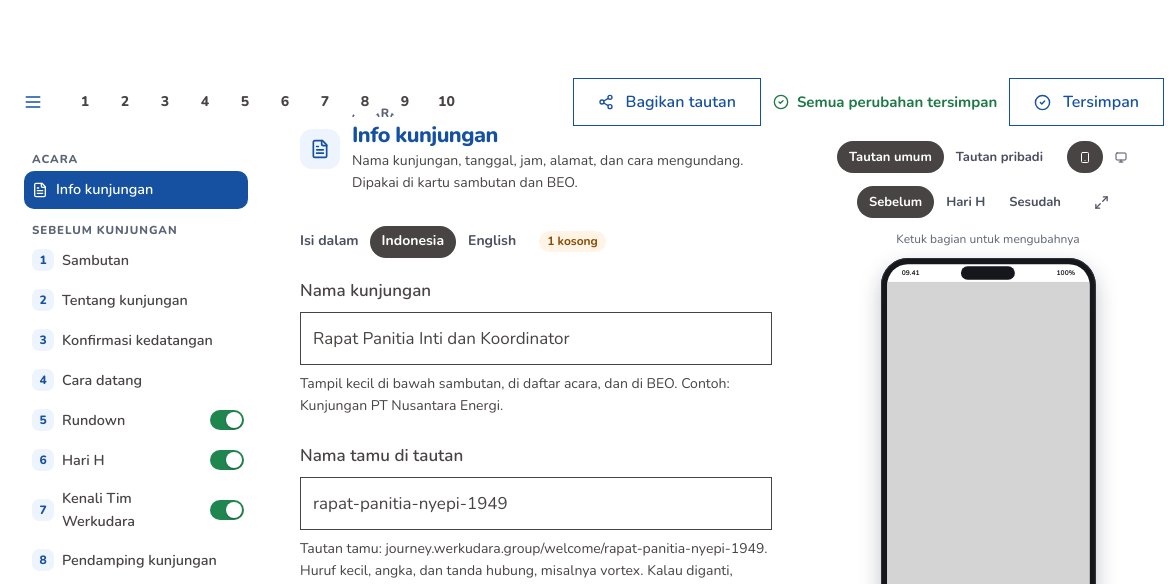
Test: fills a bilingual screen in English beside its Indonesian, counting the empty texts
The width and height of the screenshot is (1176, 584).
Click the button "1 Sambutan" at (136, 260), box [24,241,248,279]
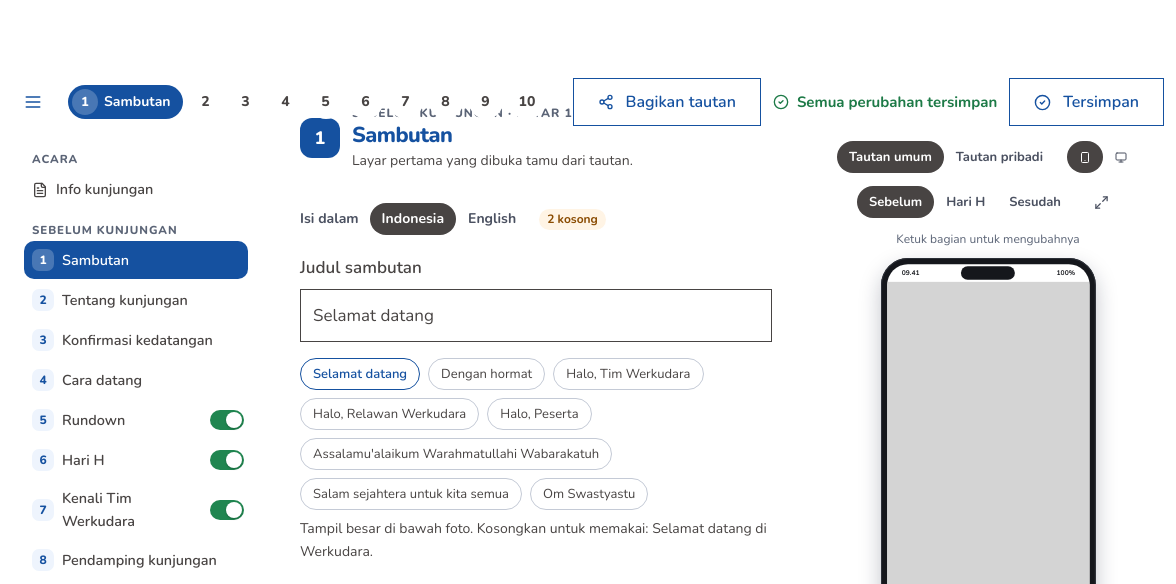
Expected: the text "2 kosong" is shown, [539,208,606,230]
Click the button "English" at (492, 219), box [456,203,528,235]
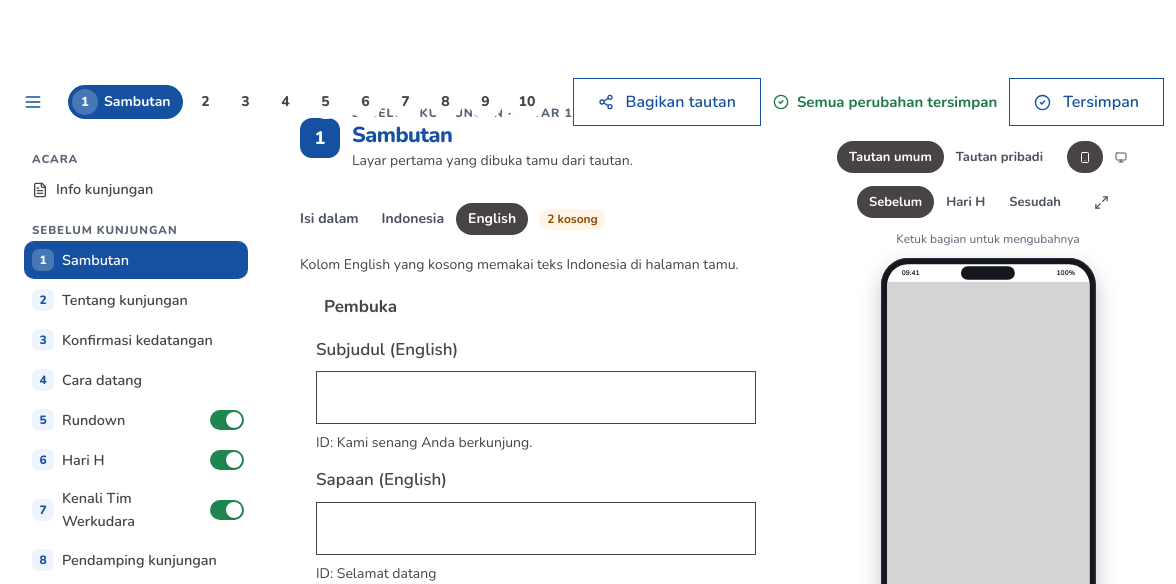
Expected: the label "Judul sambutan" is gone
Type "Welcome" into the field labelled "Sapaan (English)" at (536, 528), box [316,502,756,555]
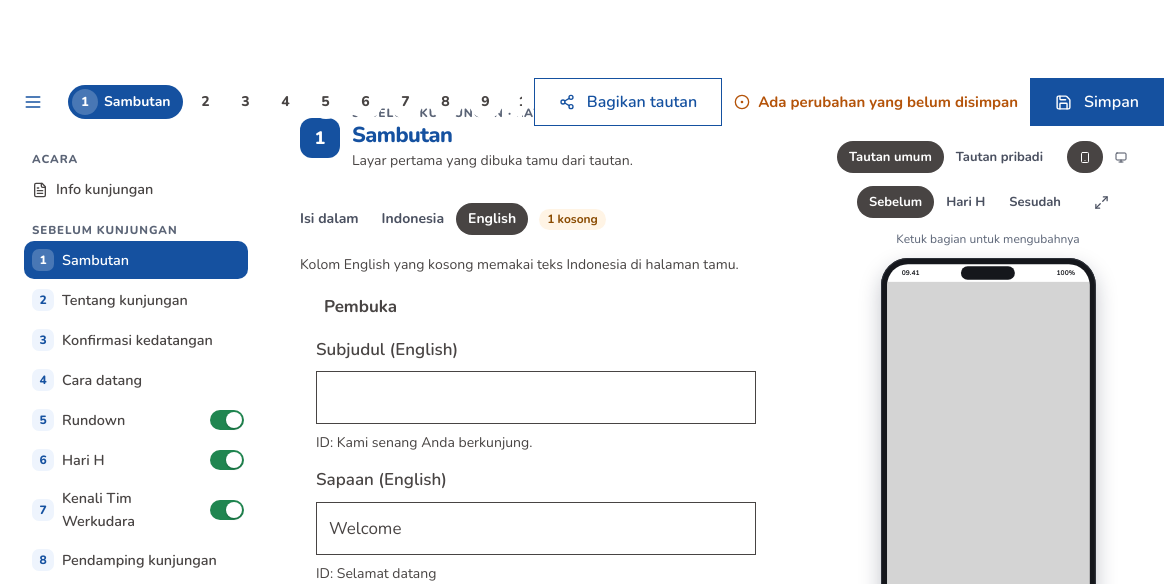
Expected: the text "1 kosong" is shown, [539,208,606,230]
Click the button "Indonesia" at (413, 219), box [370,203,456,235]
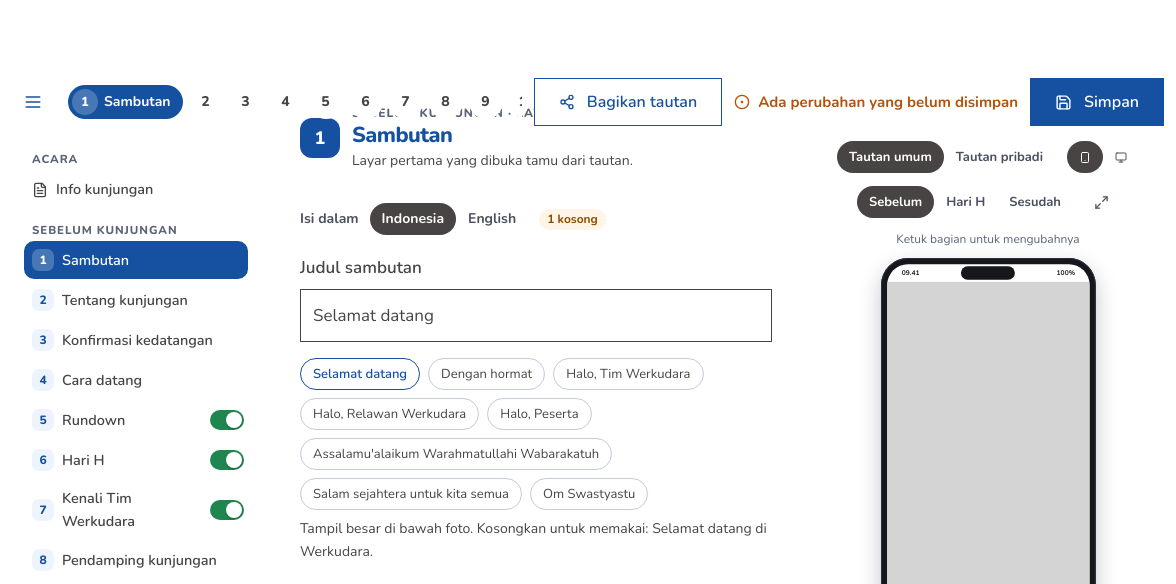
Expected: the field labelled "Judul sambutan" is shown, [300,289,772,342]
